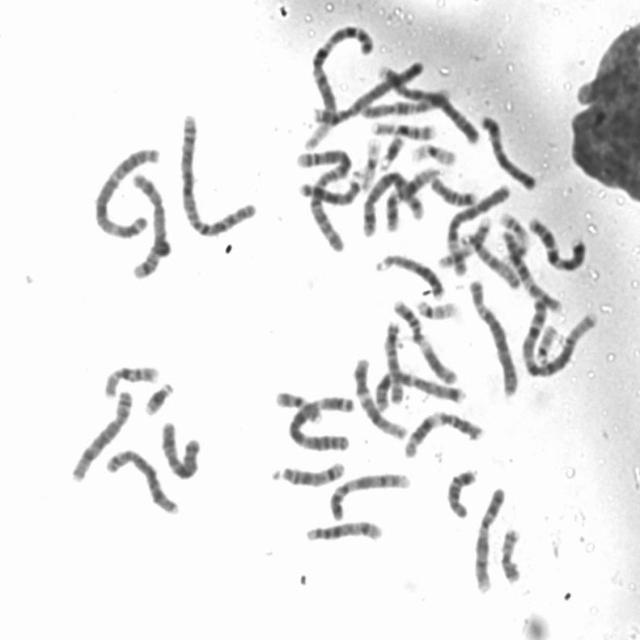A1: (303, 18, 377, 151), (518, 295, 600, 380)
A2: (174, 108, 260, 239), (293, 142, 358, 256)
A3: (88, 141, 160, 241), (285, 389, 354, 453)
B4: (372, 60, 482, 146), (312, 55, 427, 126)
B5: (356, 166, 430, 238), (127, 170, 172, 280)
C10: (497, 224, 565, 314), (356, 84, 452, 119)
C11: (388, 293, 461, 386), (400, 405, 486, 459)
C12: (350, 352, 409, 442), (380, 162, 441, 234)
C6: (439, 180, 512, 274), (465, 274, 520, 398)
C7: (370, 365, 468, 410), (524, 212, 589, 272)
C8: (66, 385, 135, 484), (102, 444, 182, 517)
C9: (326, 468, 414, 521), (469, 483, 508, 595)
D13: (372, 248, 448, 300), (294, 164, 366, 206)
D14: (267, 456, 348, 489), (301, 515, 386, 544)
D15: (458, 227, 522, 292), (380, 316, 406, 406)
E16: (99, 360, 162, 400), (368, 116, 440, 141)
E17: (436, 213, 494, 271), (496, 208, 530, 252)
E18: (442, 464, 480, 520), (426, 172, 479, 208)
F19: (407, 137, 459, 167), (357, 132, 383, 192)
F20: (273, 387, 326, 425), (496, 523, 525, 586)
G21: (140, 376, 176, 418), (375, 130, 407, 172)
G22: (532, 319, 560, 370), (413, 294, 460, 321)
X: (476, 110, 539, 192), (157, 414, 204, 482)
